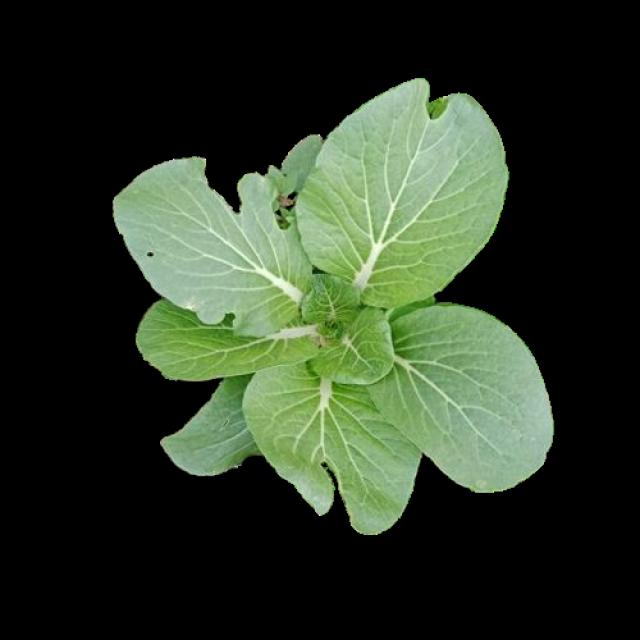mature: (114, 78, 553, 534)
unhealthy: (294, 73, 507, 307), (113, 152, 311, 332), (245, 343, 428, 533)
